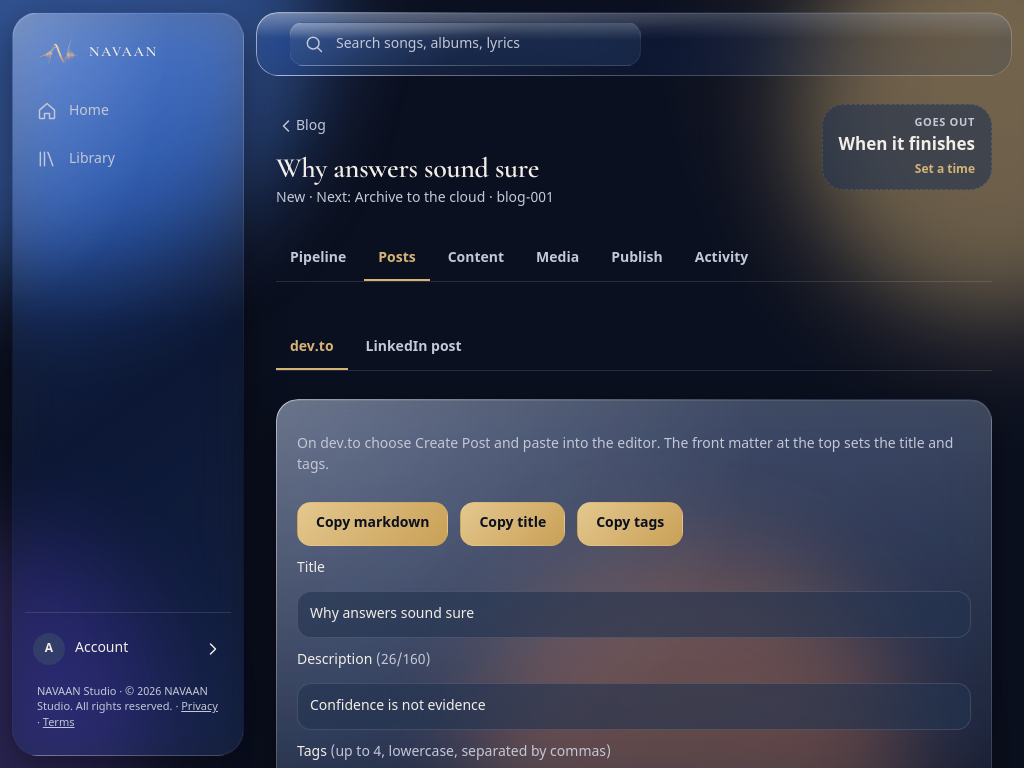
Test: The finished blog post, one tab per destination › has no Posts tab until a draft exists, and a LinkedIn post tab appears when its file does
The image size is (1024, 768).
Expected: the heading "Why answers sound sure" is shown, [276, 151, 539, 185]
Click the tab "LinkedIn post". click: (414, 348)
box: [352, 326, 476, 370]
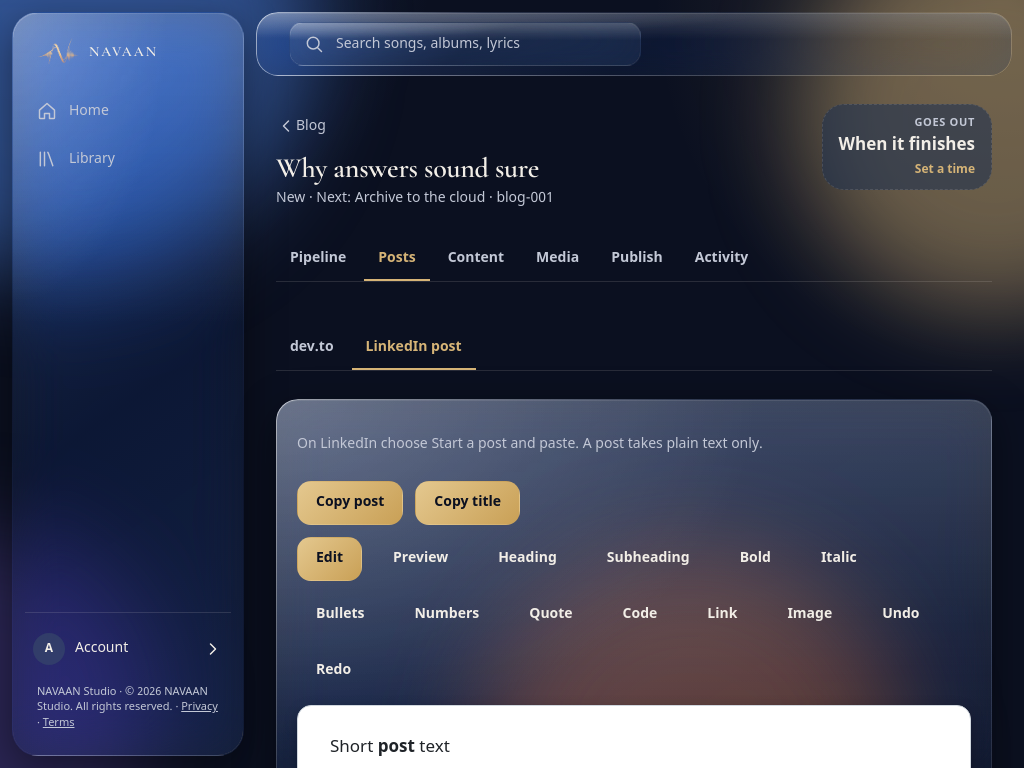
Expected: the button "Copy post" is shown, [297, 481, 403, 525]
